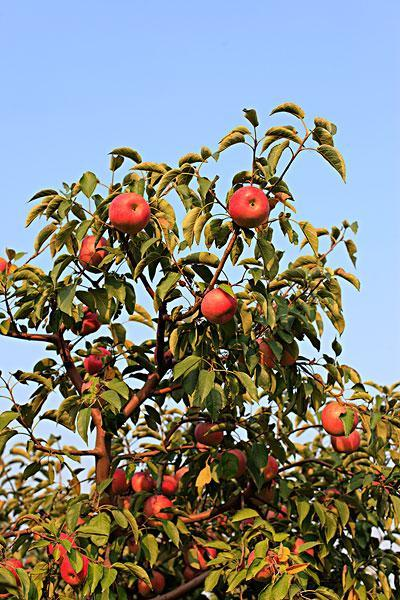apple: (107, 192, 150, 234), (227, 185, 268, 228), (199, 286, 236, 323), (320, 400, 357, 436), (77, 234, 105, 268), (193, 422, 224, 445), (108, 467, 130, 494), (130, 472, 155, 493)
